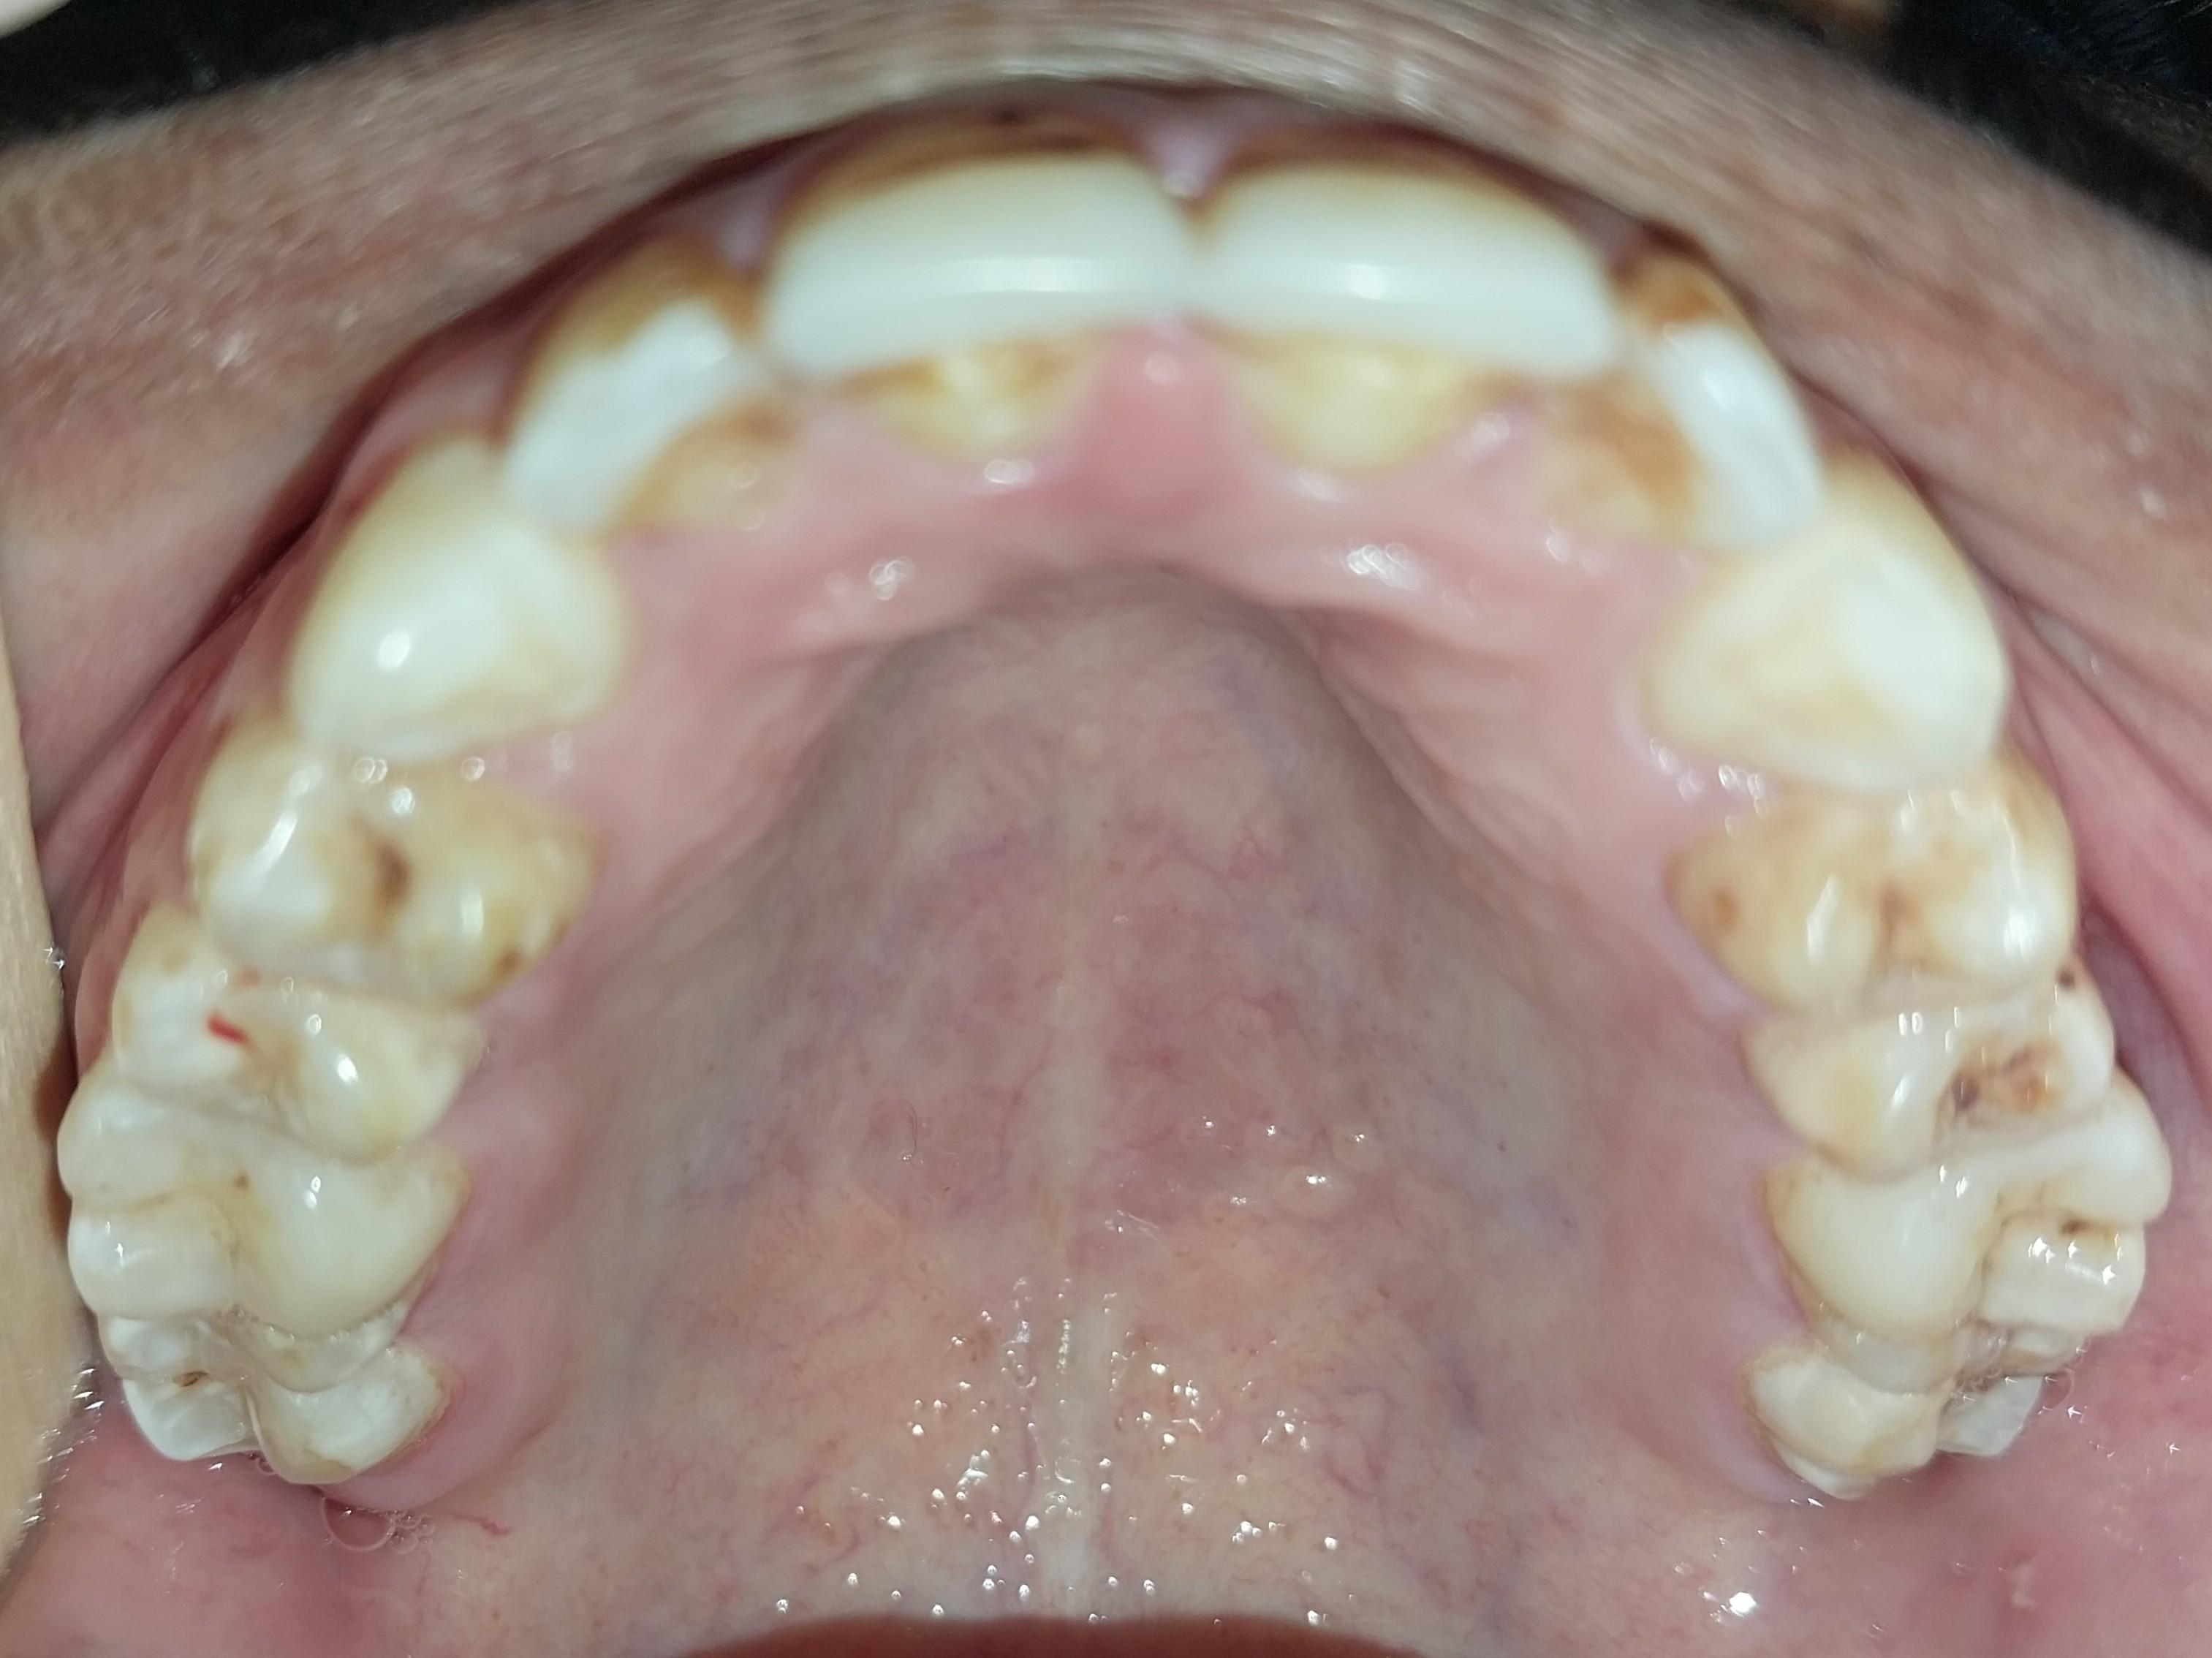D: (196, 727, 569, 1019), (98, 1314, 434, 1492), (1762, 998, 2119, 1162)
